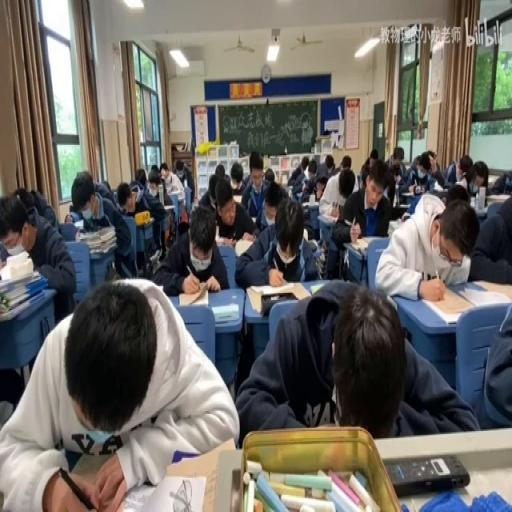calculator: (124, 471, 206, 512), (65, 449, 124, 505), (245, 280, 306, 313), (456, 278, 511, 308), (210, 302, 238, 324), (178, 287, 207, 307), (350, 236, 380, 253), (233, 236, 254, 256), (2, 242, 26, 257), (318, 209, 340, 225), (386, 218, 402, 236), (473, 202, 488, 219), (486, 192, 510, 202), (214, 235, 234, 246), (148, 249, 160, 266), (395, 202, 410, 215), (304, 238, 317, 252), (310, 283, 324, 294), (71, 219, 83, 230), (306, 199, 320, 208), (232, 193, 242, 205), (402, 186, 416, 194), (302, 226, 309, 239), (343, 216, 353, 225), (433, 181, 443, 189), (164, 204, 174, 210)
paper: (5, 277, 237, 508), (236, 280, 474, 440), (374, 192, 476, 300), (1, 192, 77, 334), (232, 190, 318, 286), (65, 171, 134, 283), (153, 203, 228, 296), (332, 161, 390, 280), (467, 189, 512, 287), (131, 165, 170, 257), (241, 150, 270, 218), (404, 171, 446, 216), (442, 154, 474, 188), (171, 158, 194, 199), (314, 154, 336, 192), (386, 144, 408, 180), (486, 168, 512, 195), (14, 186, 36, 216), (227, 162, 246, 196), (93, 179, 116, 206), (203, 171, 219, 209), (287, 154, 306, 184), (116, 185, 134, 215), (445, 184, 469, 206), (147, 164, 160, 188), (134, 166, 146, 186), (360, 164, 370, 188), (473, 168, 486, 185), (215, 162, 226, 179), (306, 160, 316, 178), (340, 155, 350, 171), (369, 148, 378, 165), (264, 168, 274, 183), (302, 181, 311, 196), (158, 162, 168, 175), (425, 150, 434, 164), (411, 155, 420, 169), (63, 212, 72, 222)
person: (385, 452, 470, 496)
